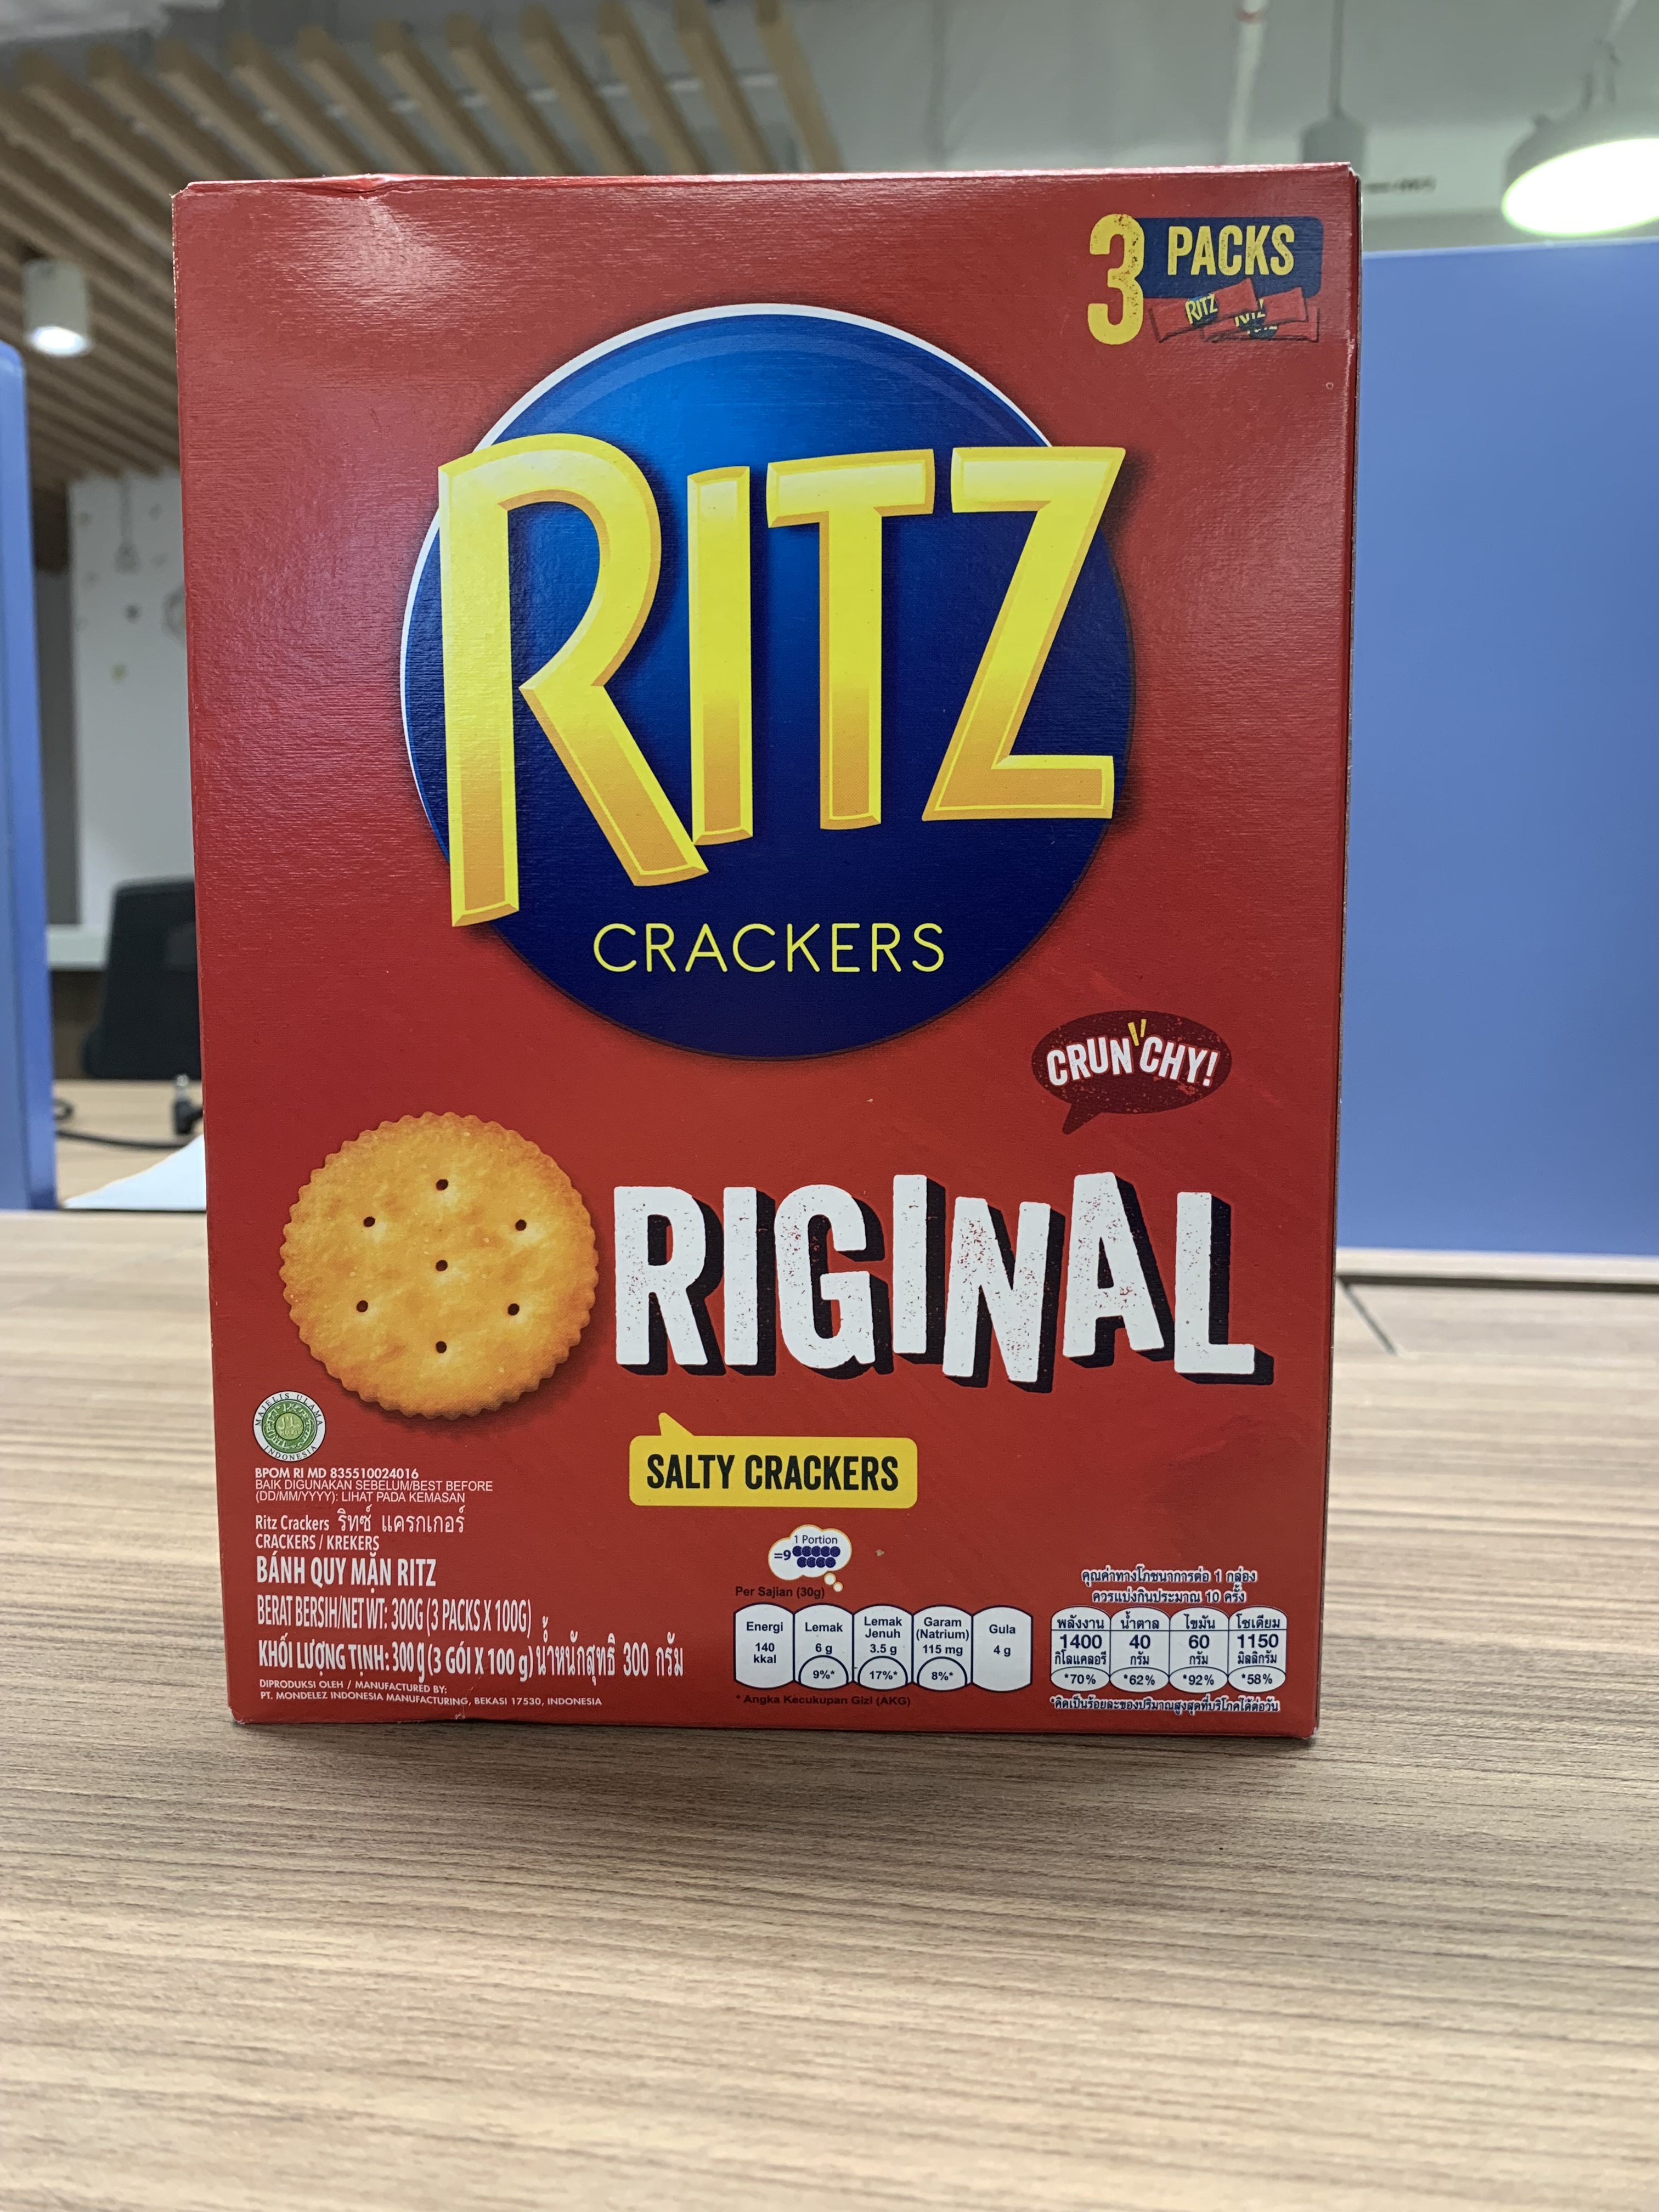halal: (256, 1392, 321, 1460)
